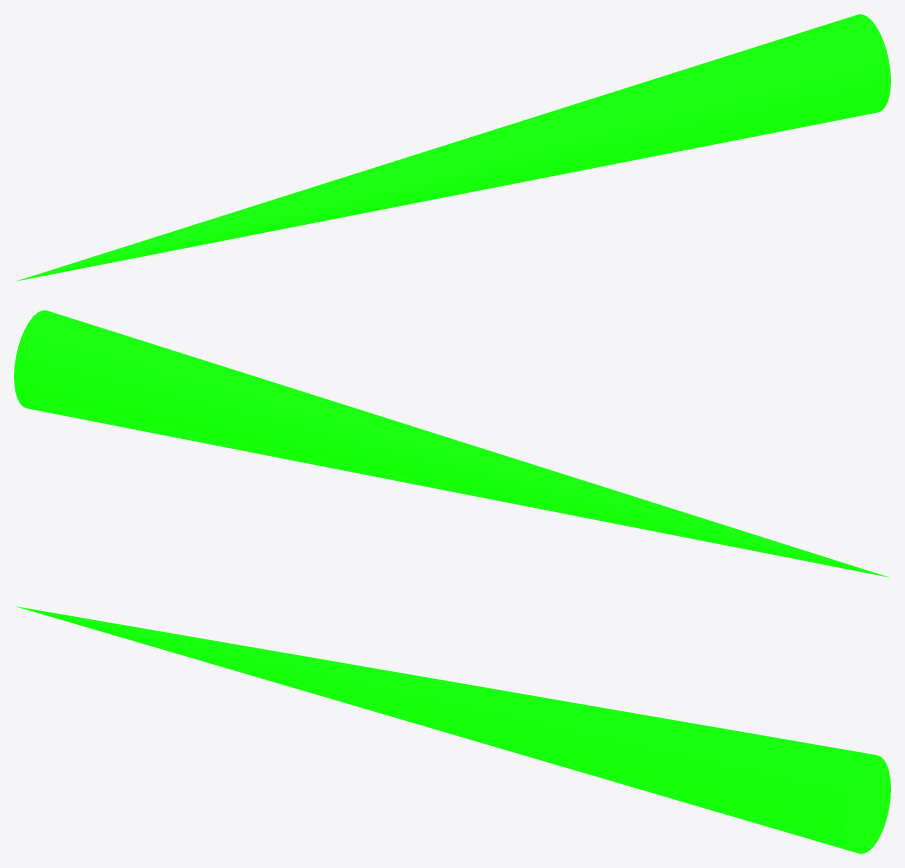
File: StreakExhaust.gltf
3 renders of one model, top to bottom at view 1: azimuth 30°, elevation 25°; view 2: azimuth 150°, elevation 25°; view 3: azimuth 330°, elevation 25°, orthographic.
Visible parts, largest first — view 1: Cone.001; view 2: Cone.001; view 3: Cone.001.
Boxes of the visible parts, x1=… form: Cone.001: x1=15, y1=14, x2=890, y2=281; Cone.001: x1=14, y1=310, x2=889, y2=577; Cone.001: x1=16, y1=606, x2=890, y2=853.
Size of the model in its own units: 30.41 by 3.16 by 2.79.
